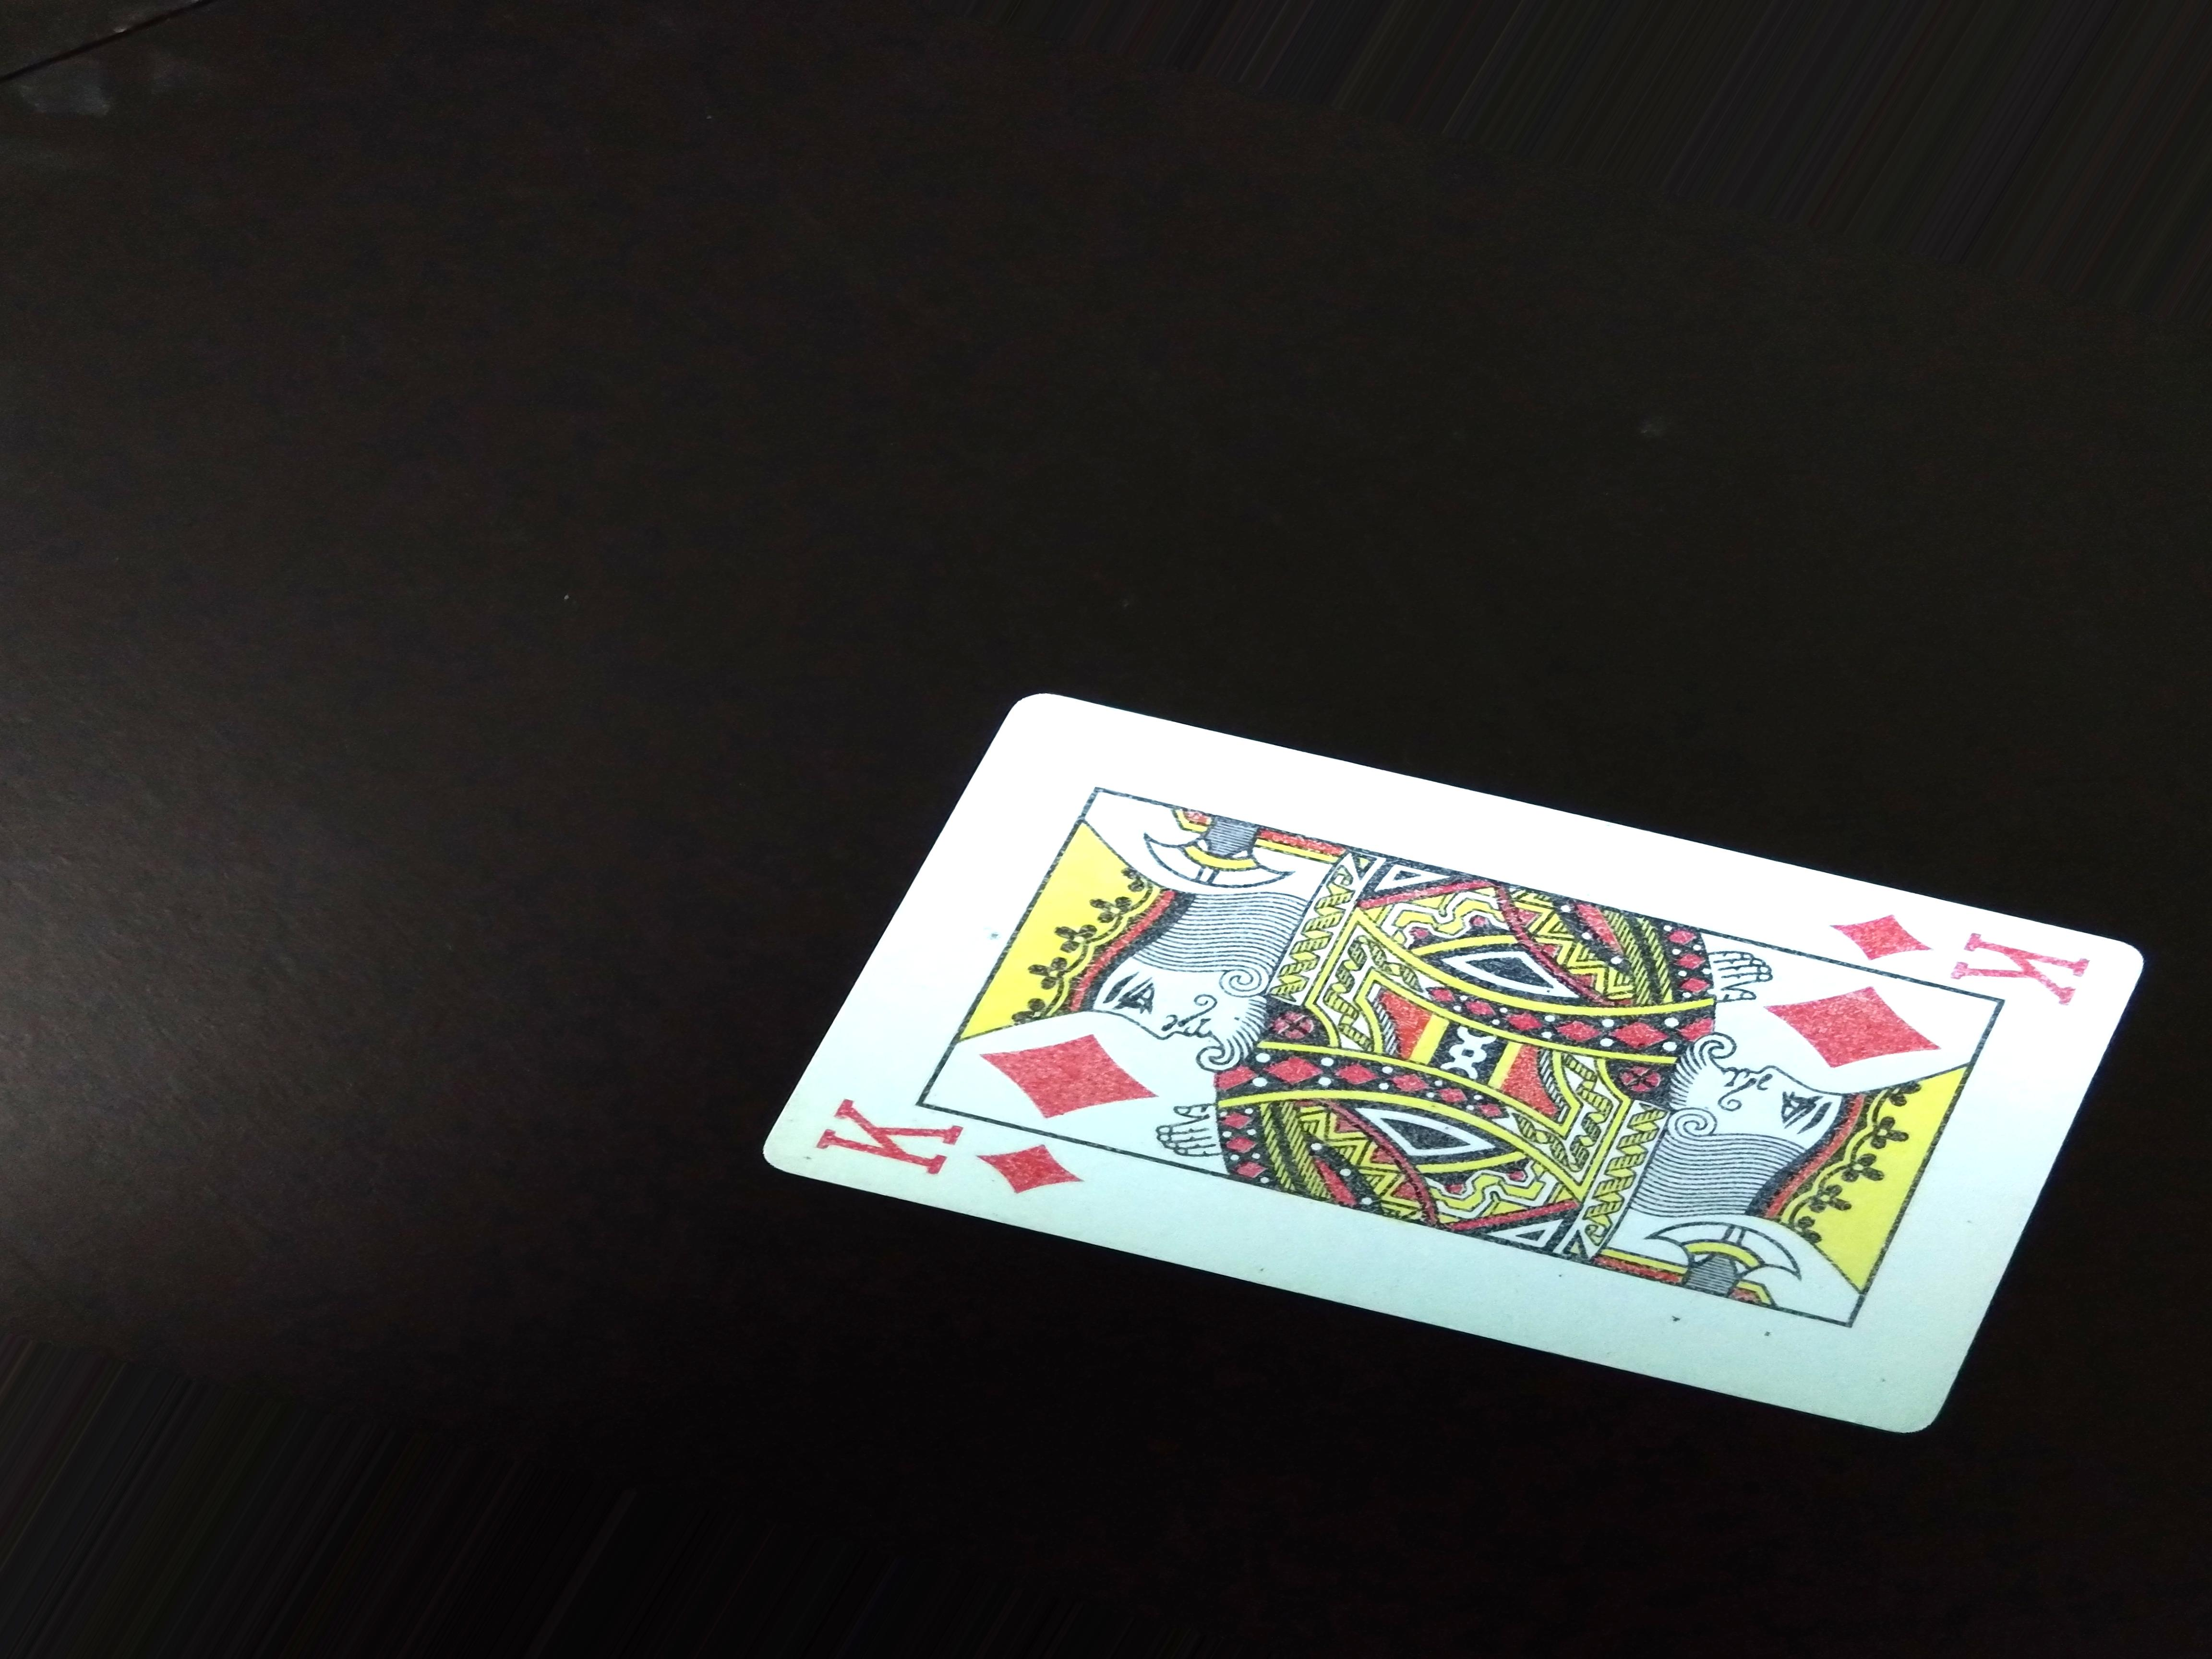KD: (1838, 904, 2111, 1014)
